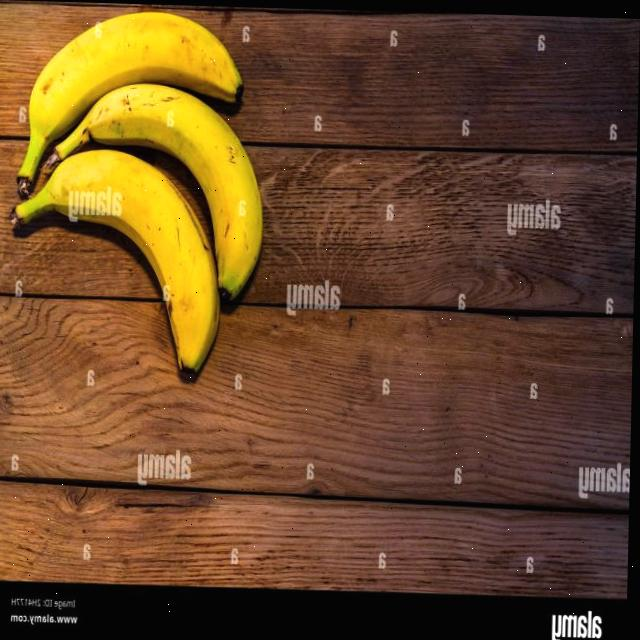banana: (3, 141, 231, 389), (36, 75, 269, 313), (12, 1, 250, 214)
